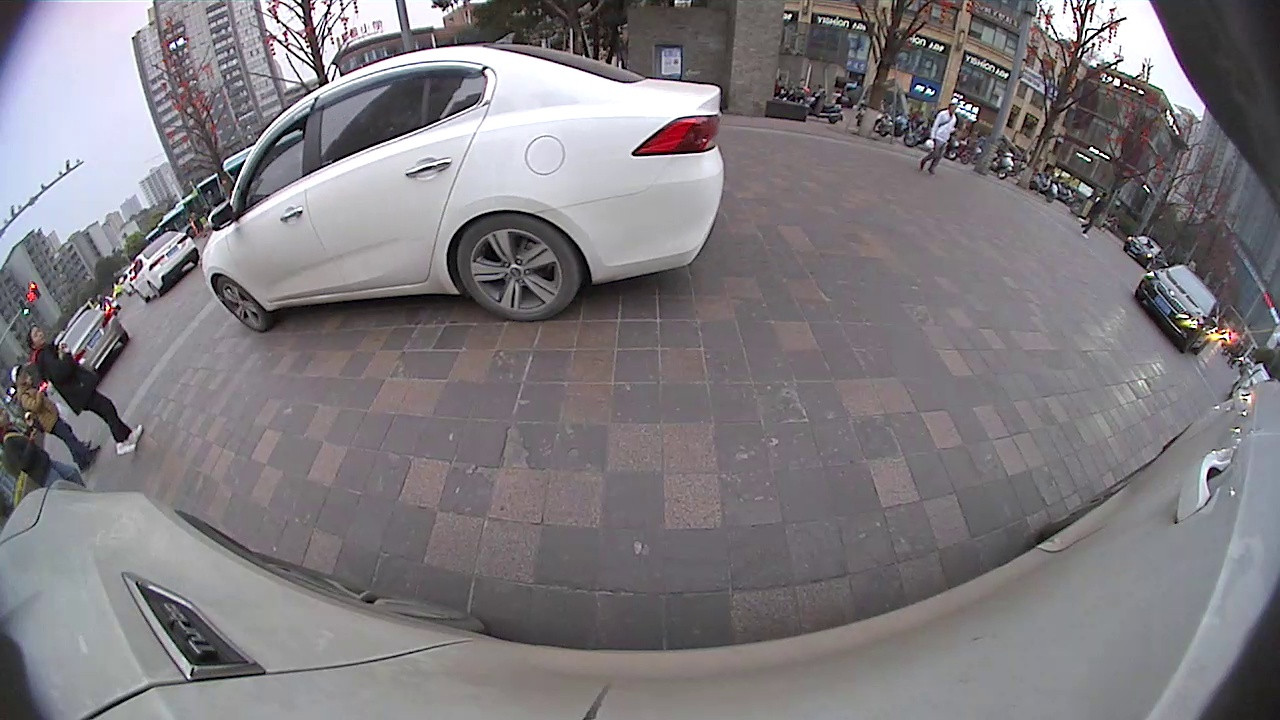car: (199, 40, 728, 334), (1132, 262, 1222, 358), (126, 227, 200, 303), (54, 306, 132, 377), (1123, 233, 1167, 273)
front: (211, 273, 271, 334)
person: (26, 324, 62, 457), (13, 364, 39, 475), (935, 101, 958, 173)
rear: (451, 210, 584, 325)
